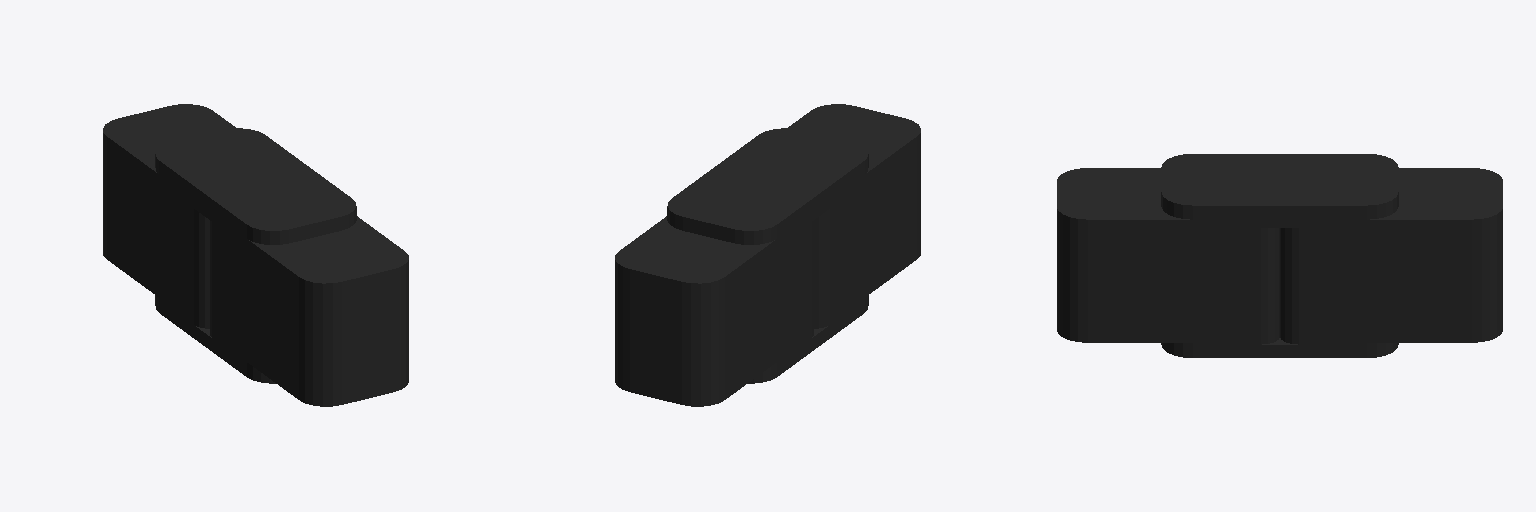
3 renders of one model, left to right at view 1: azimuth 30°, elevation 25°; view 2: azimuth 150°, elevation 25°; view 3: azimuth 270°, elevation 25°, orthographic.
Visible parts, largest first — view 1: link_1.0; view 2: link_1.0; view 3: link_1.0.
Part boxes in pixels (x1,y1,x2,y2): link_1.0: (103,104,408,406); link_1.0: (615,104,920,406); link_1.0: (1057,154,1502,357).
Bounding box in the file's own units: 0.0196 × 0.027 × 0.0716.